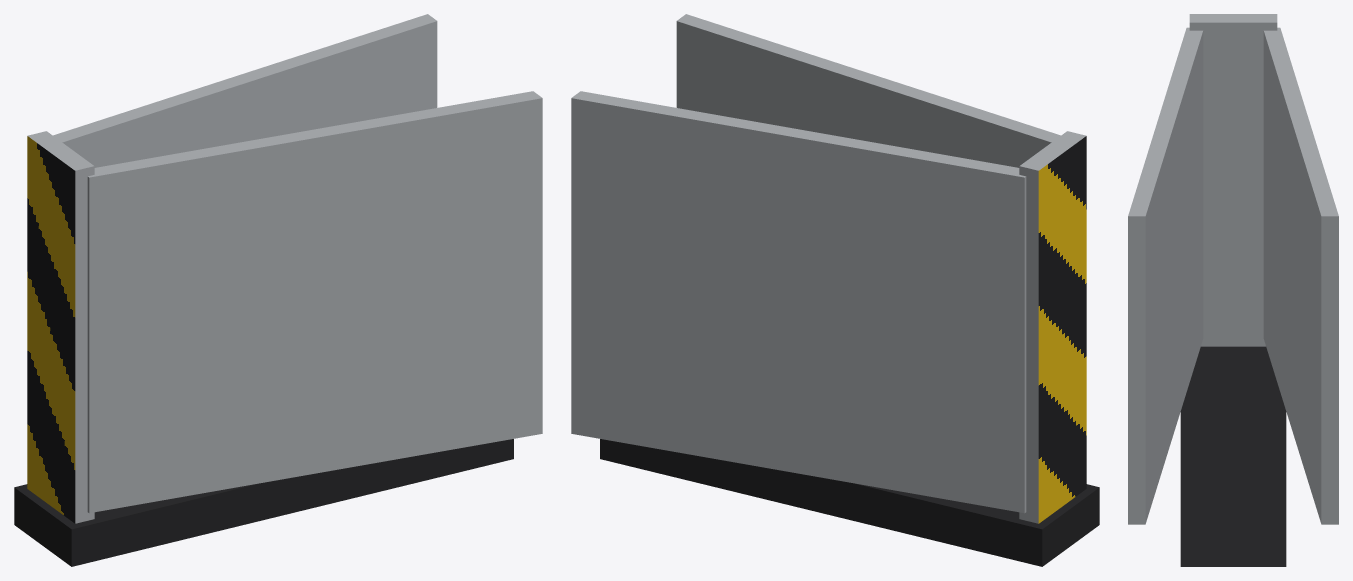
Rendered from crash_cushion_nose_core.obj.
3 renders of one model, left to right at view 1: azimuth 30°, elevation 25°; view 2: azimuth 150°, elevation 25°; view 3: azimuth 270°, elevation 25°, orthographic. The views are drawn at different scales.
Parts seen in each view (by area): view 1: crash_cushion_nose_core; view 2: crash_cushion_nose_core; view 3: crash_cushion_nose_core.
Boxes of the visible parts, x1=… form: crash_cushion_nose_core: x1=14, y1=14, x2=542, y2=566; crash_cushion_nose_core: x1=571, y1=14, x2=1099, y2=566; crash_cushion_nose_core: x1=1128, y1=14, x2=1338, y2=566.
Size of the model in its own units: 1 by 0.8438 by 0.45.
